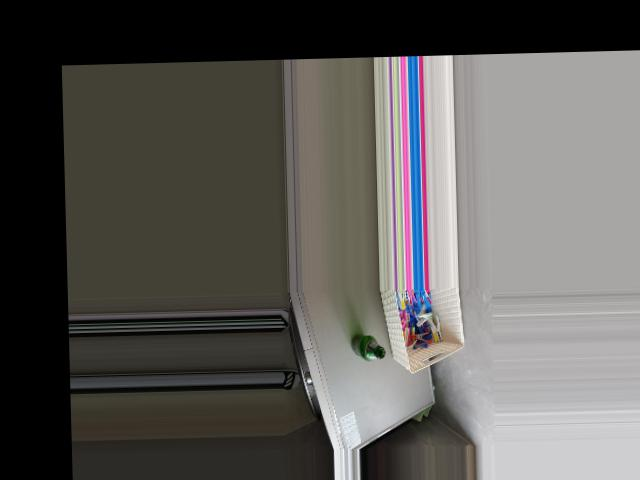beer: (350, 333, 384, 359)
